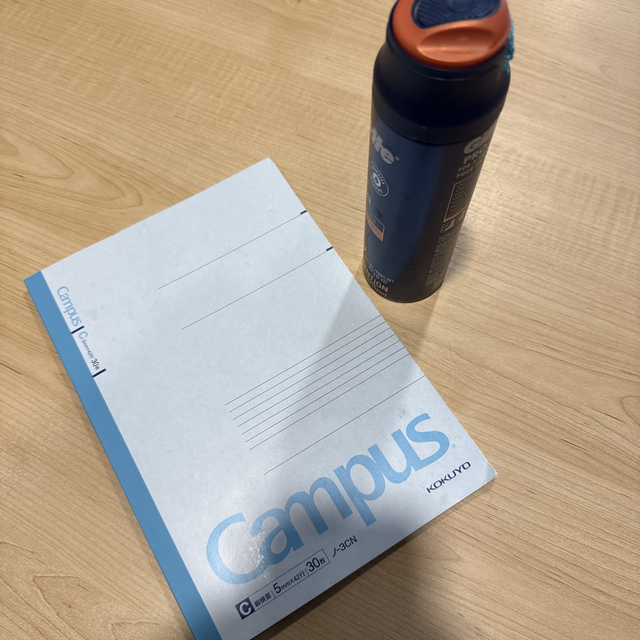Aerosol: (365, 8, 519, 324)
Paper: (32, 171, 510, 618)
